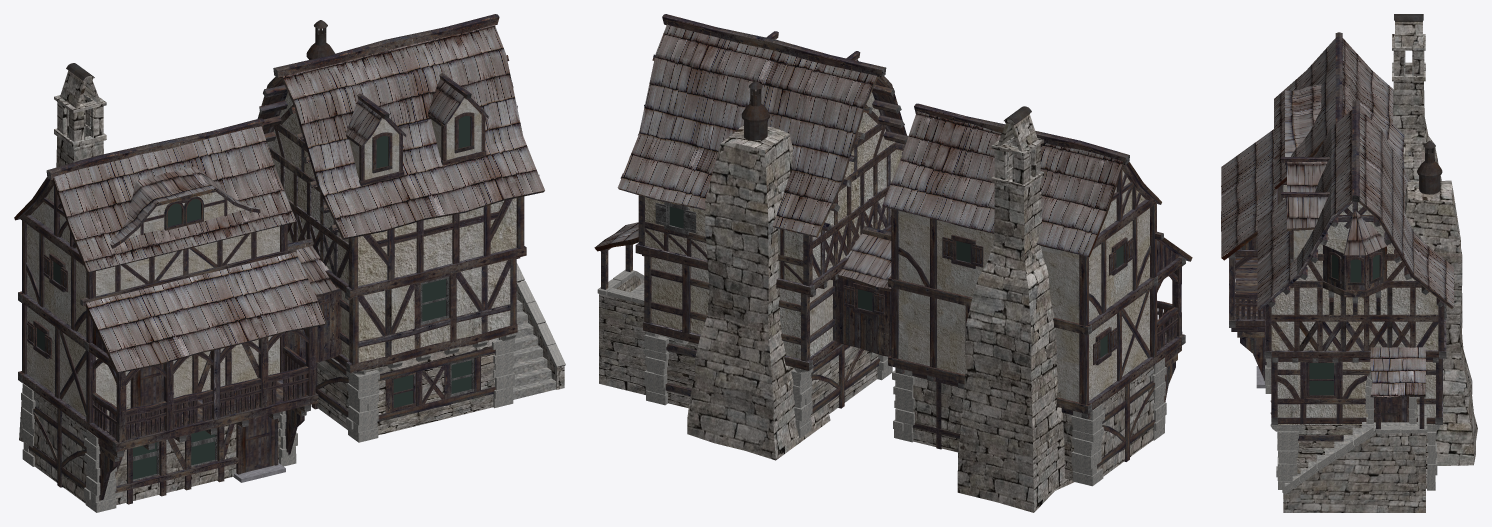
3 views of the same model, side by side, from view 1: azimuth 30°, elevation 25°; view 2: azimuth 150°, elevation 25°; view 3: azimuth 270°, elevation 25° (orthographic). The views are drawn at different scales.
Parts seen in each view (by area): view 1: Roof, WoodRight, WoodLeft, BalconyWood, RightLevel3, LeftLevel3, RightLevel2, LeftLevel2, LeftLevel1, RightLevel1, StoneRight, ChimneyLeft (+21 smaller); view 2: Roof, ChimneyLeft, ChimneyRight, WoodLeft, WoodRight, LeftLevel3, LeftLevel2, LeftLevel1, RightLevel3, RightLevel2, StoneLeft, StairsSides (+13 smaller); view 3: Roof, WoodRight, StairsSides, ChimneyRight, RightLevel3, ChimneyLeft, RightLevel2, WoodLeft, StoneRight, RoofRightFrameHolders, RightLevel1, WindowsRightFrame (+10 smaller).
Part boxes in pixels (x1,y1,x2,y2): Roof: (53, 24, 544, 371); WoodRight: (268, 99, 526, 422); WoodLeft: (18, 180, 318, 504); BalconyWood: (92, 327, 315, 442); RightLevel3: (267, 93, 516, 286); LeftLevel3: (27, 186, 279, 337); RightLevel2: (341, 260, 510, 362); LeftLevel2: (27, 306, 279, 416); LeftLevel1: (29, 391, 280, 504); RightLevel1: (317, 337, 500, 435); StoneRight: (331, 333, 515, 442); ChimneyLeft: (19, 70, 106, 441); Roof: (595, 24, 1123, 288); ChimneyLeft: (957, 113, 1074, 512); ChimneyRight: (687, 125, 830, 460); WoodLeft: (888, 165, 1185, 467); WoodRight: (600, 105, 896, 415); LeftLevel3: (898, 170, 1149, 323); LeftLevel2: (898, 289, 1149, 402); LeftLevel1: (913, 366, 1153, 480); RightLevel3: (645, 92, 902, 283); RightLevel2: (651, 257, 832, 358); StoneLeft: (892, 358, 1166, 486); StairsSides: (599, 275, 646, 394); Roof: (1221, 38, 1453, 397); WoodRight: (1264, 202, 1446, 441); StairsSides: (1283, 427, 1425, 512); ChimneyRight: (1404, 180, 1477, 465); RightLevel3: (1271, 202, 1438, 350); ChimneyLeft: (1392, 20, 1441, 181); RightLevel2: (1277, 362, 1435, 424); WoodLeft: (1228, 151, 1317, 380); StoneRight: (1270, 376, 1440, 490); RoofRightFrameHolders: (1268, 100, 1444, 307); RightLevel1: (1296, 425, 1428, 488); WindowsRightFrame: (1289, 231, 1446, 397).
Bounding box in the file's own units: 16.5 × 12.27 × 8.54.
13 materials, 11 textured.
